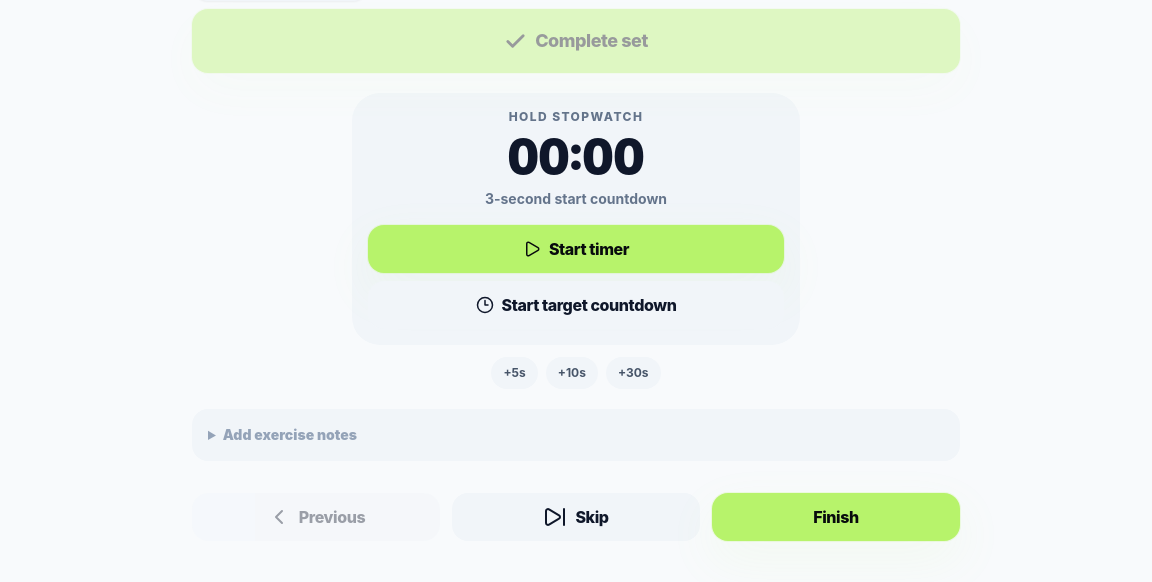
Scenario: active workout previous performance and replacement UX › plays exactly once only when an explicit duration countdown reaches zero
This screenshot has width=1152, height=582.
(page scrolled)
Click the button "Start target countdown" at (576, 305), box [368, 281, 784, 329]
Wait 35000 ms
(page scrolled)
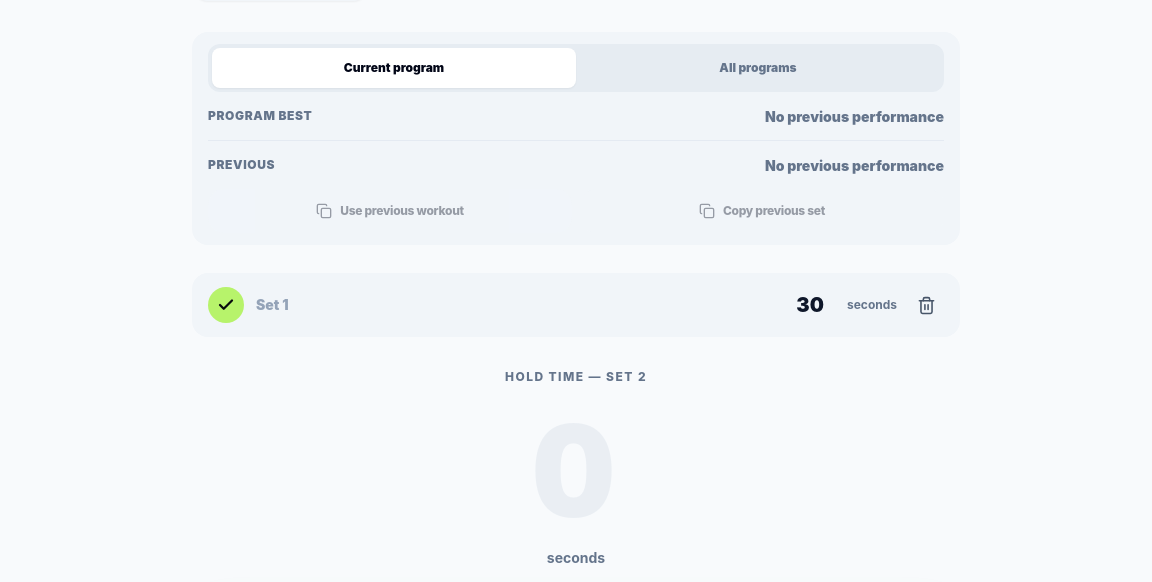
Result: the number field named "Hold time" holds "30" at [332, 291, 839, 319]
